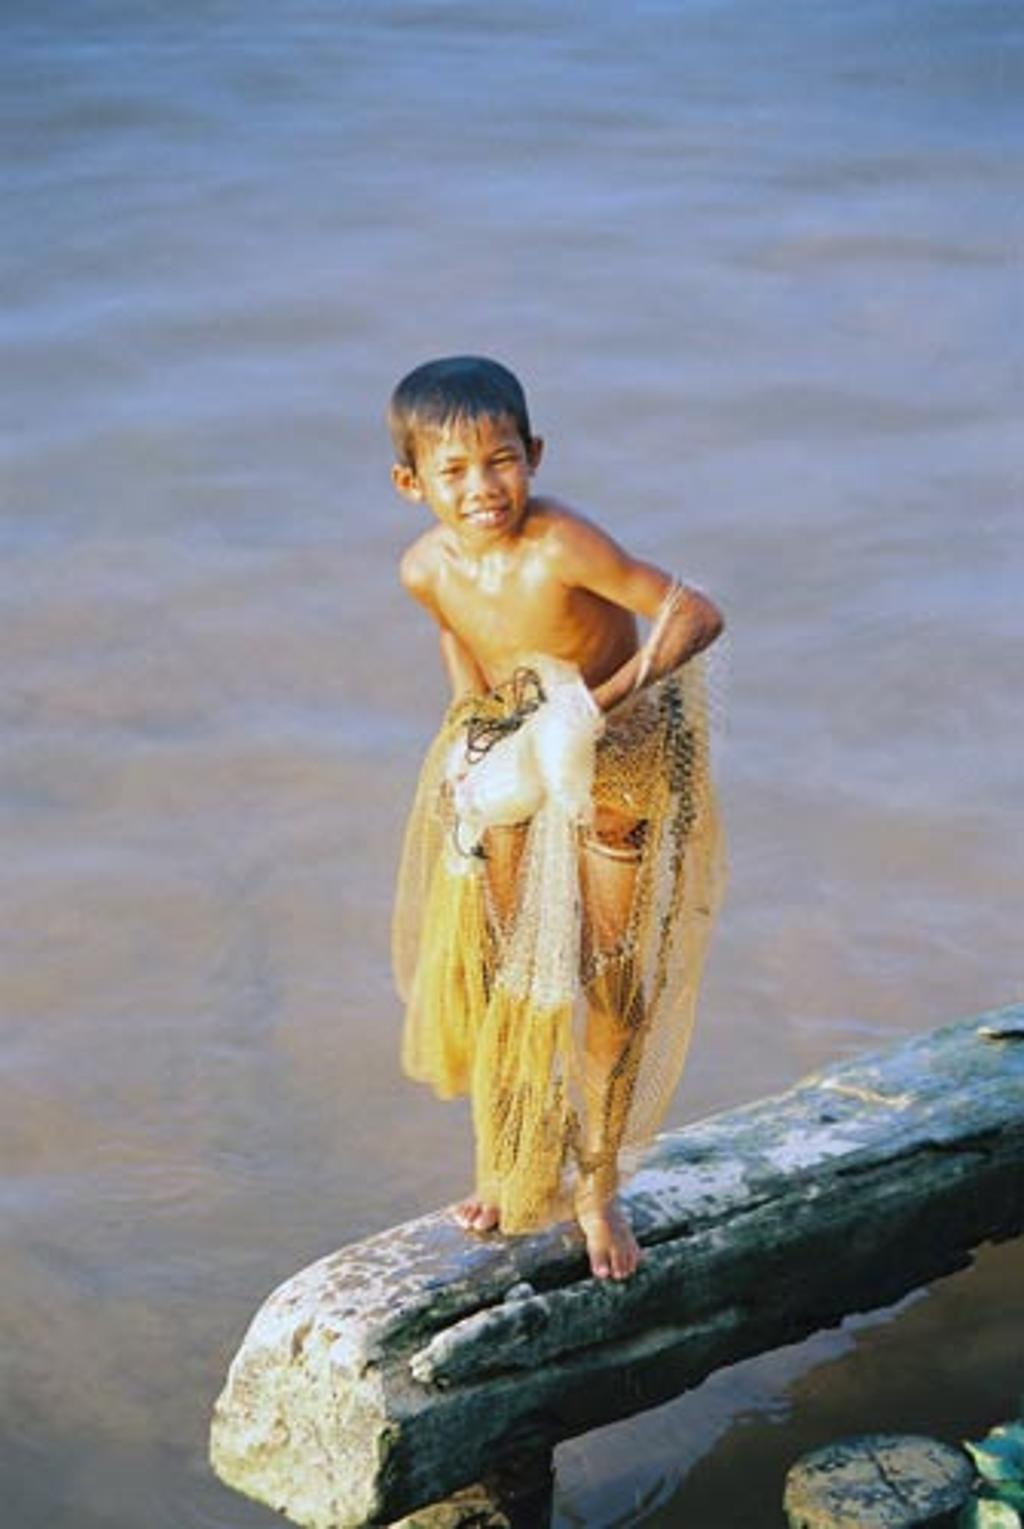face: (422, 404, 529, 556)
